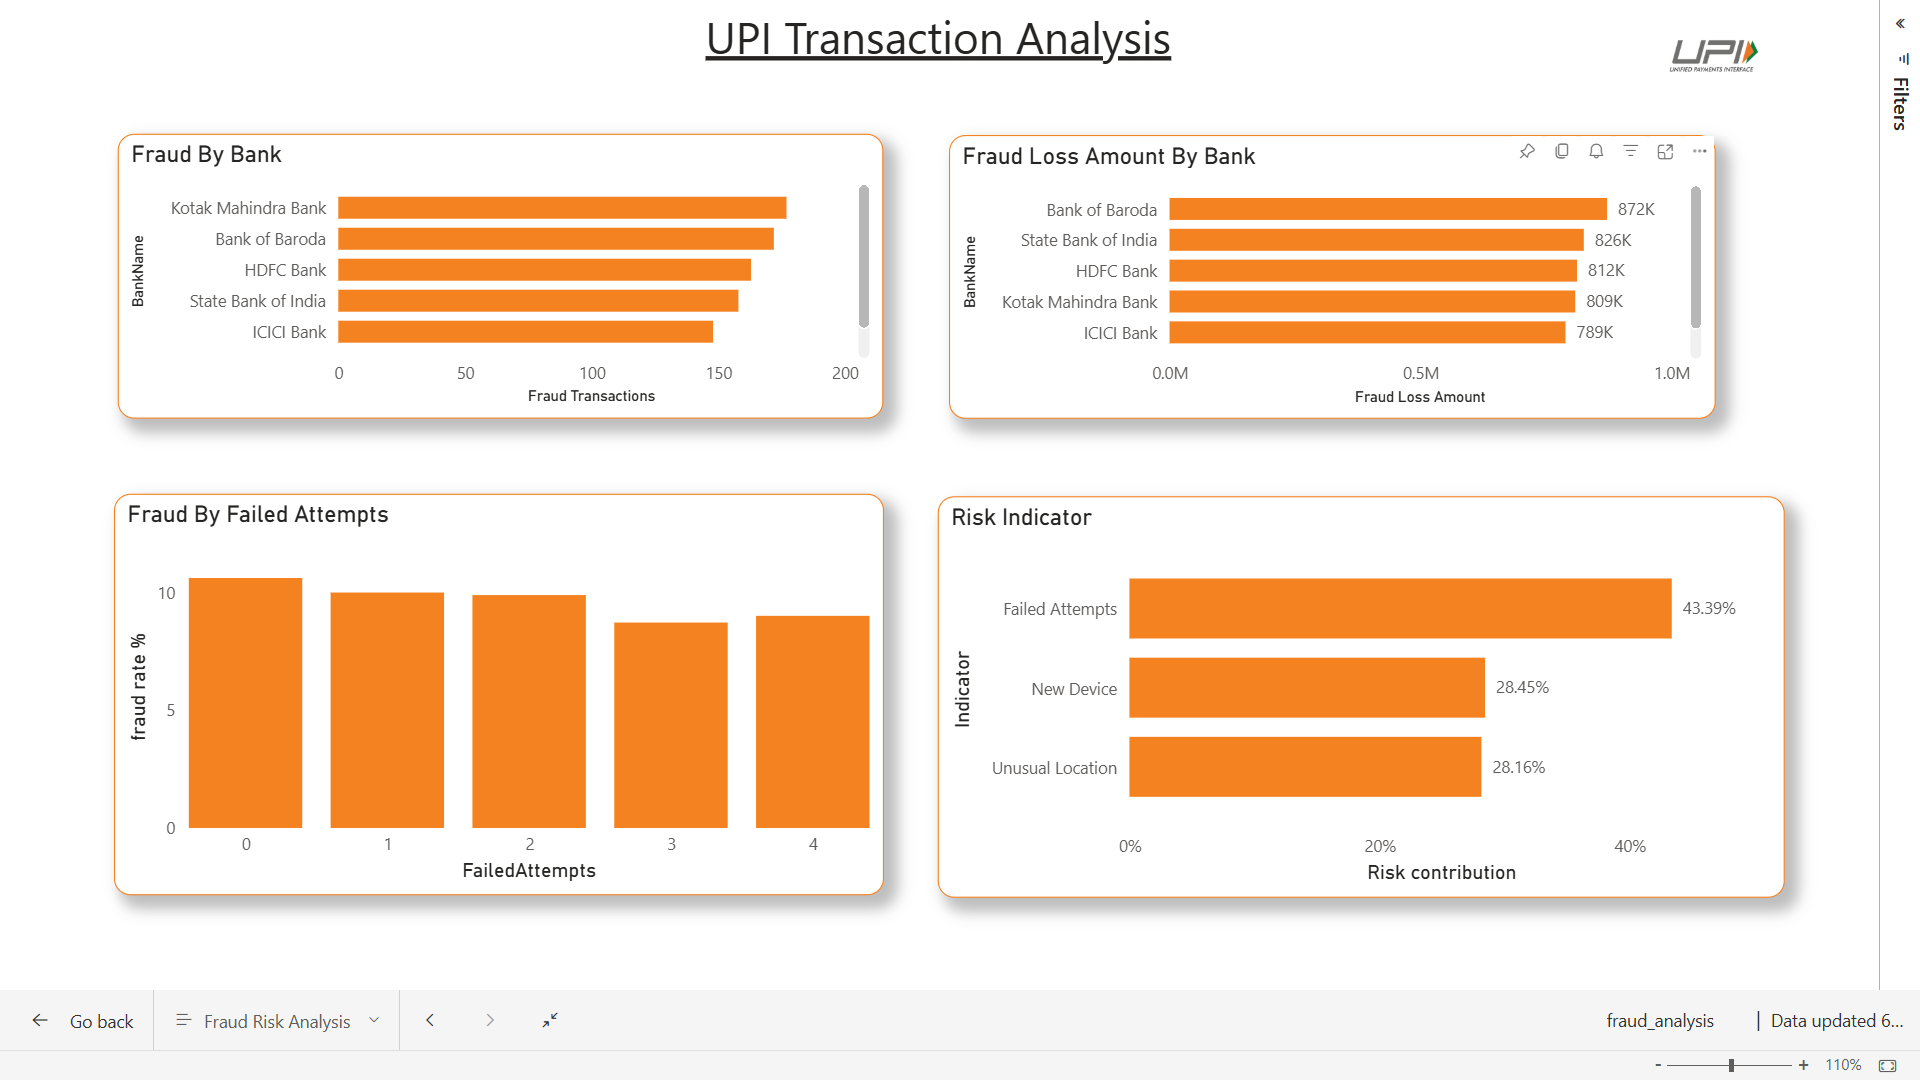

Layout of this report page (visuals, bound fields, positions):
{"tool":"powerbi","page":{"name":"Fraud Risk Analysis","canvas":[1280,720],"ordinal":1},"visuals":[{"type":"textbox","box":[454.1,0,371.9,68.6],"z":0},{"type":"image","box":[1127.5,0,152.9,81.9],"z":1000},{"type":"barChart","title":"Fraud By Bank","fields":{"Category":["upi_fraud.BankName"],"Y":["upi_fraud.Fraud Transactions"]},"box":[42.5,97.4,557.1,207.2],"z":2000},{"type":"columnChart","title":"Fraud By Failed Attempts","fields":{"Category":["upi_fraud.FailedAttempts"],"Y":["upi_fraud.fraud rate %"]},"box":[39.8,359.5,559.9,292.3],"z":3000},{"type":"clusteredBarChart","title":"Risk Indicator","fields":{"Category":["Risk Indicators.Indicator"],"Y":["Risk Indicators.Risk contribution"]},"box":[639.5,360.7,616.3,292.3],"z":4000},{"type":"barChart","title":"Fraud Loss Amount By Bank","fields":{"Category":["upi_fraud.BankName"],"Y":["upi_fraud.Fraud Loss Amount"]},"box":[646.9,97.8,557.6,206.7],"z":4001}]}

Visuals, with their boxes on the page's 1280x720 design canvas (x1, y1, x2, y2). These are canvas units, not pixel positions in the 1920x1080 screenshot, which may show the page scaled, cropped or inside an application window:
textbox: bbox=[454, 0, 826, 69]
image: bbox=[1128, 0, 1280, 82]
"Fraud By Bank" barChart: bbox=[42, 97, 600, 305]
"Fraud By Failed Attempts" columnChart: bbox=[40, 360, 600, 652]
"Risk Indicator" clusteredBarChart: bbox=[640, 361, 1256, 653]
"Fraud Loss Amount By Bank" barChart: bbox=[647, 98, 1204, 304]
